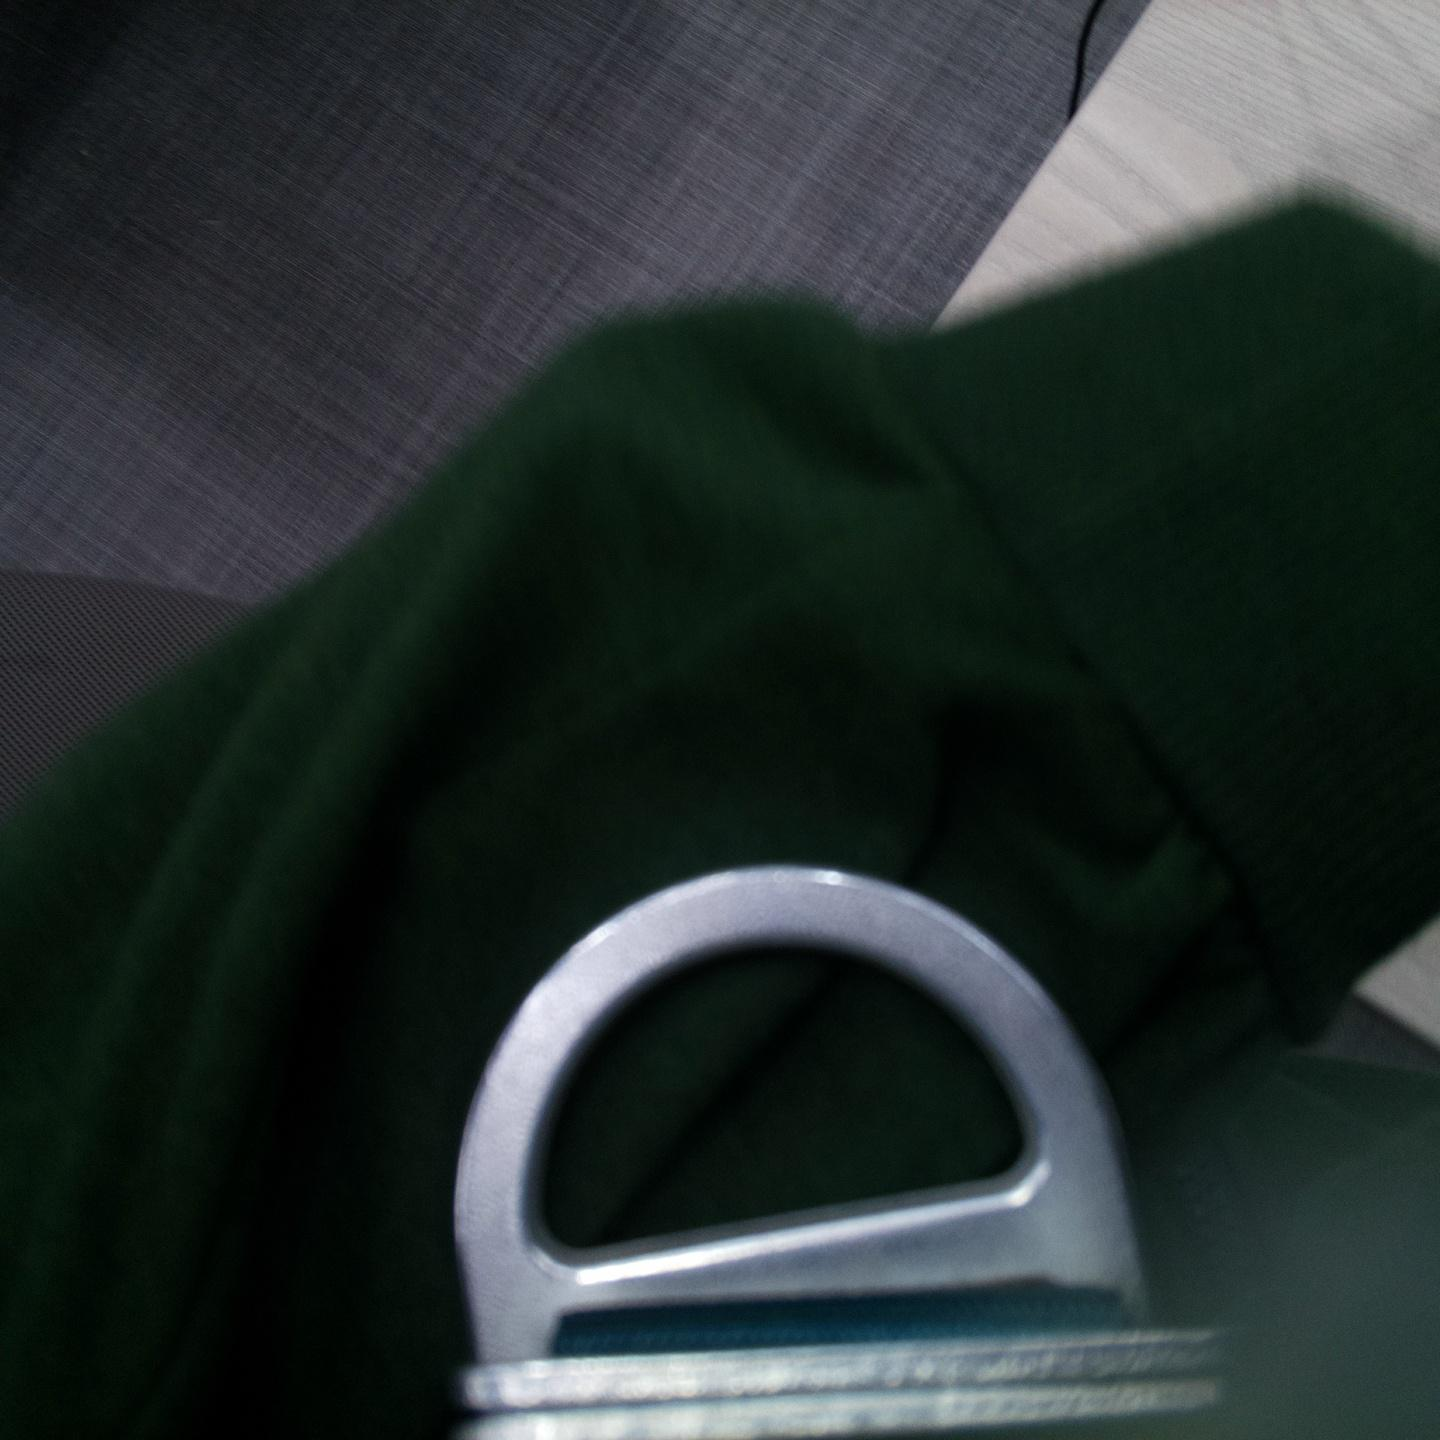UNSUCCESS: (444, 862, 1164, 1329)
